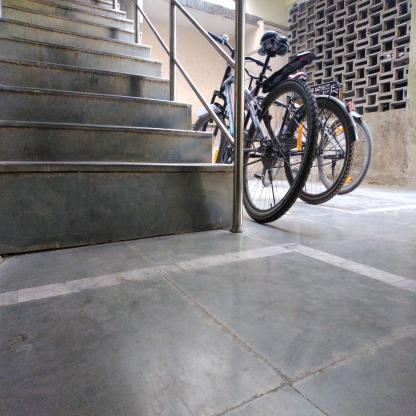stairs: (1, 45, 152, 254)
